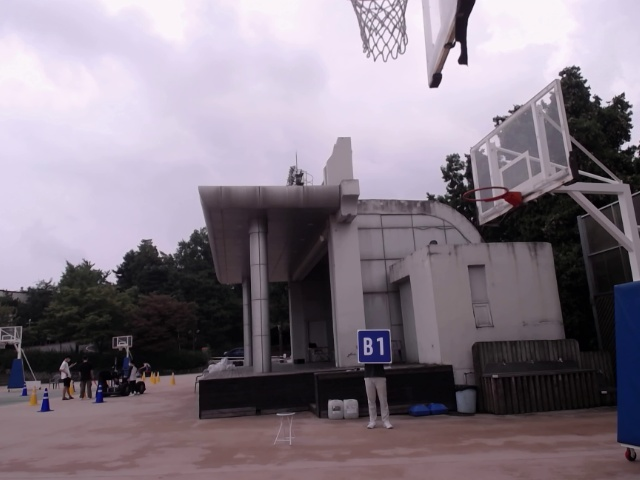delivery_b1: (357, 329, 392, 363)
